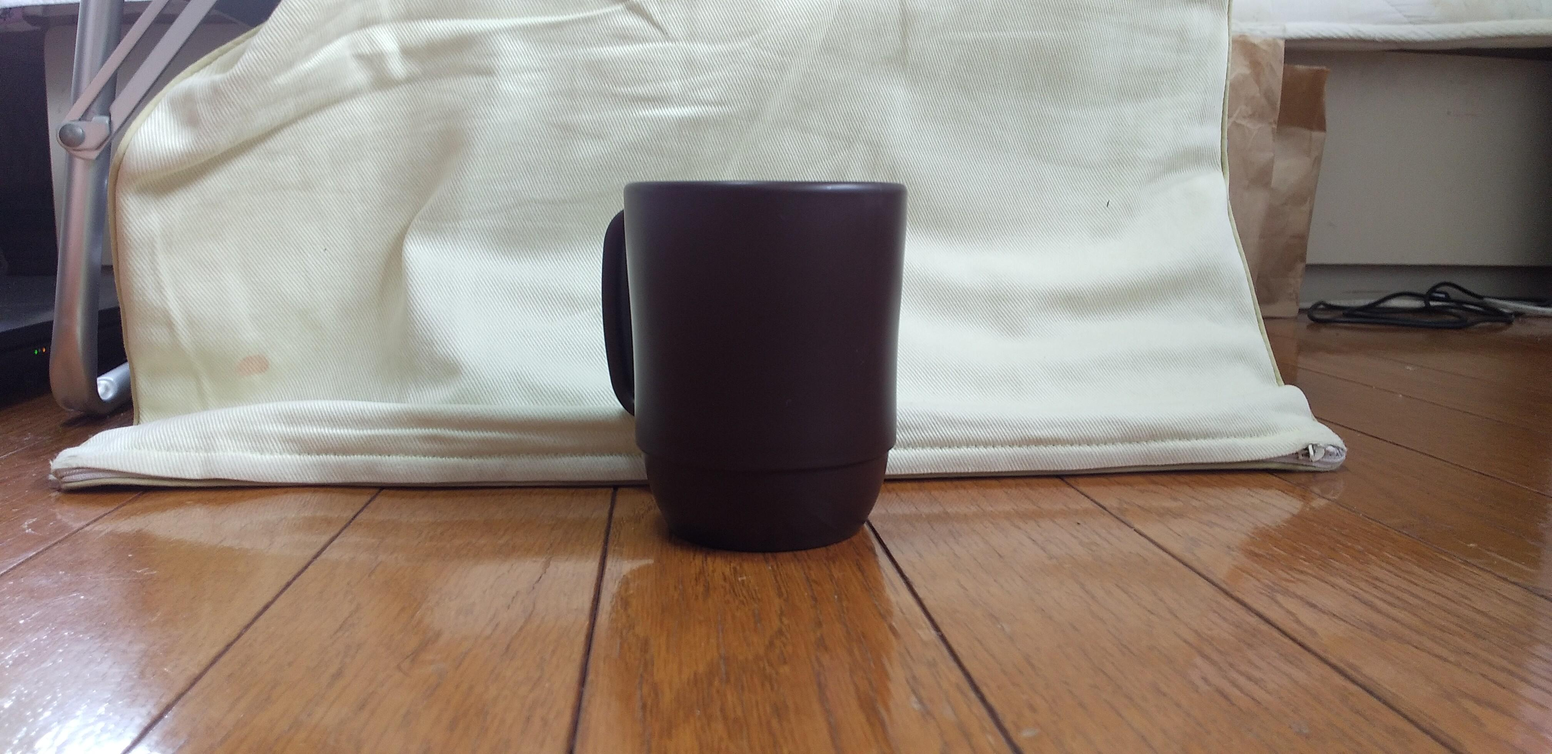mug-real100-3d100: (602, 181, 906, 552)
